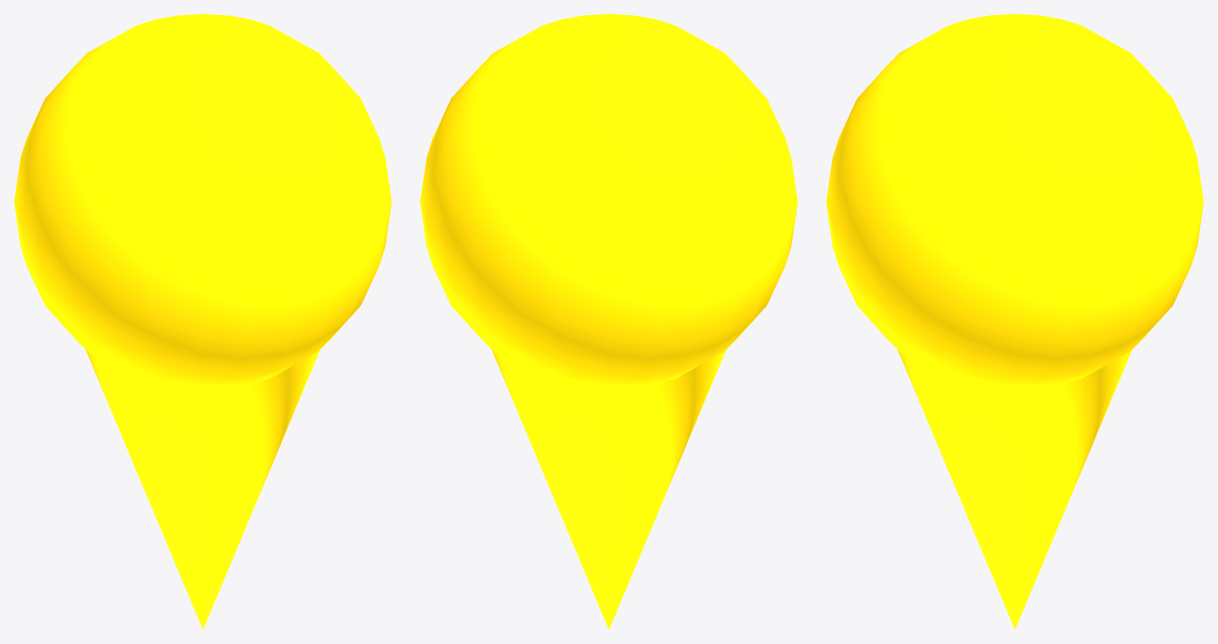
Rendered from hazard.glb.
The picture shows the model from 3 angles, left to right: view 1: azimuth 30°, elevation 25°; view 2: azimuth 150°, elevation 25°; view 3: azimuth 270°, elevation 25°; orthographic projection.
Bounding box in the file's own units: 0.08 × 0.14 × 0.08.
